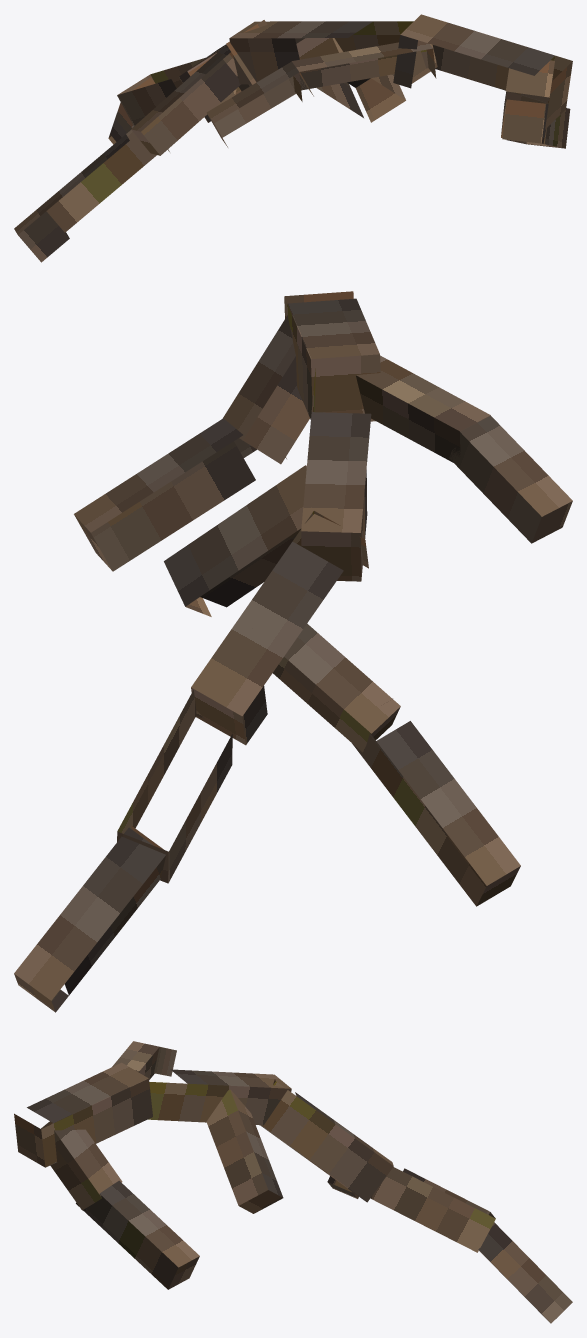
File: chestnut_twig_branch_2.obj
3 views of the same model, one above another, from view 1: azimuth 30°, elevation 25°; view 2: azimuth 150°, elevation 25°; view 3: azimuth 270°, elevation 25° (orthographic). The views are drawn at different scales.
Visible parts, largest first — view 1: cube; view 2: cube; view 3: cube.
Part boxes in pixels (x1=…): cube: x1=14, y1=14, x2=572, y2=262; cube: x1=14, y1=291, x2=572, y2=1012; cube: x1=14, y1=1041, x2=572, y2=1323.
Bounding box in the file's own units: 2.22 × 1.51 × 2.9.
